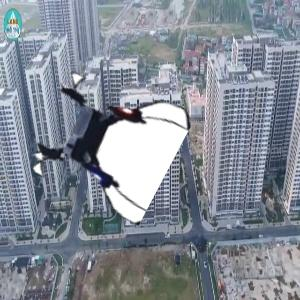drone: (35, 73, 175, 213)
